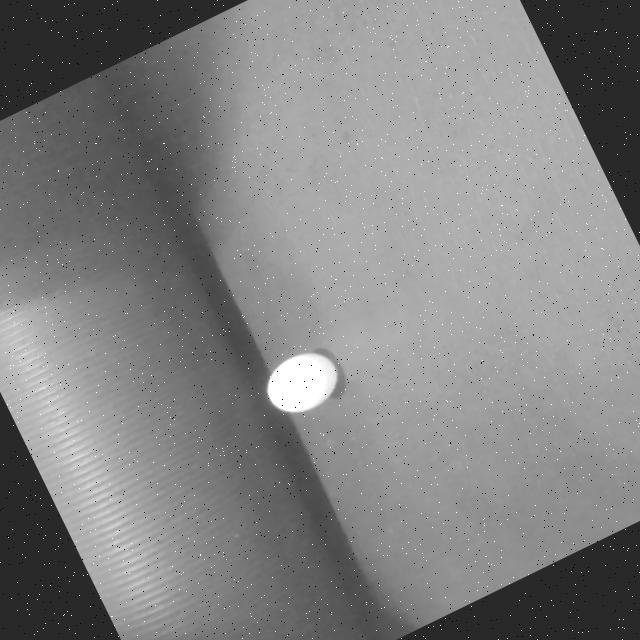ping-pong-ball: (258, 342, 346, 422)
